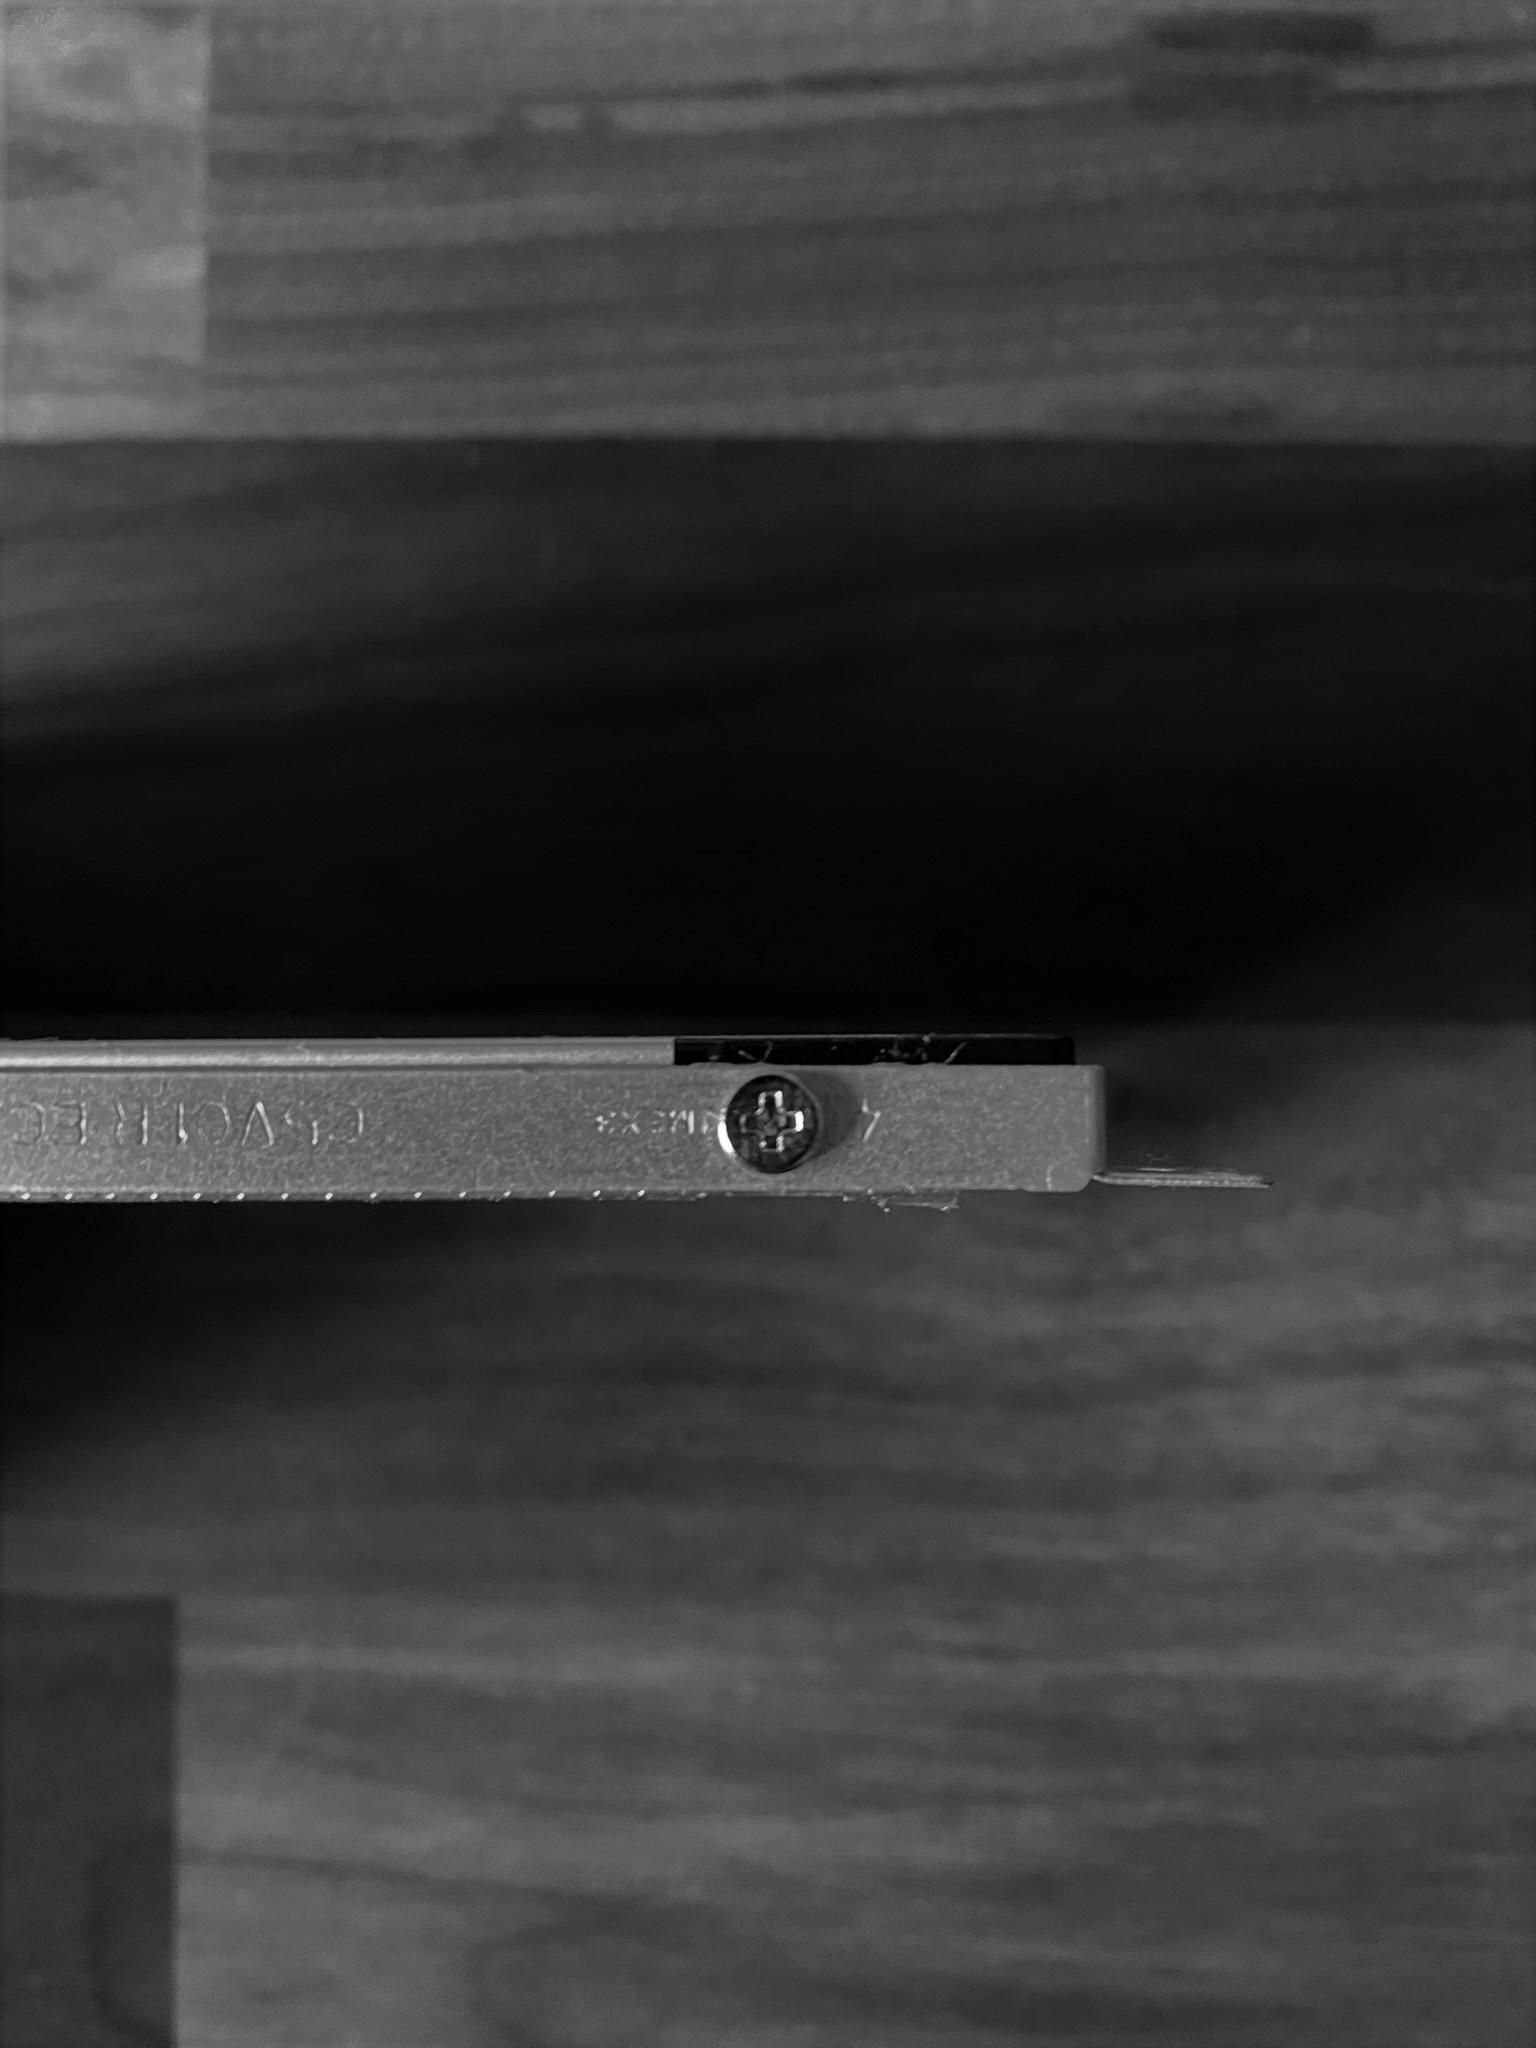PH: (716, 1072, 826, 1180)
